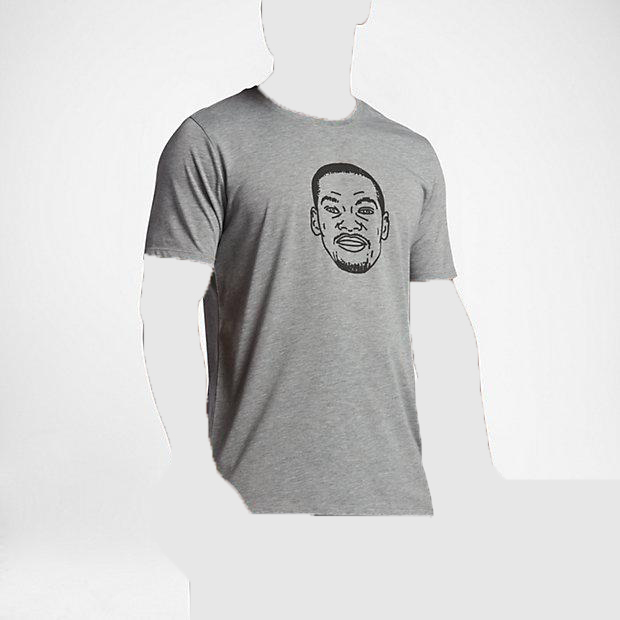teeshirt: (141, 80, 468, 526)
